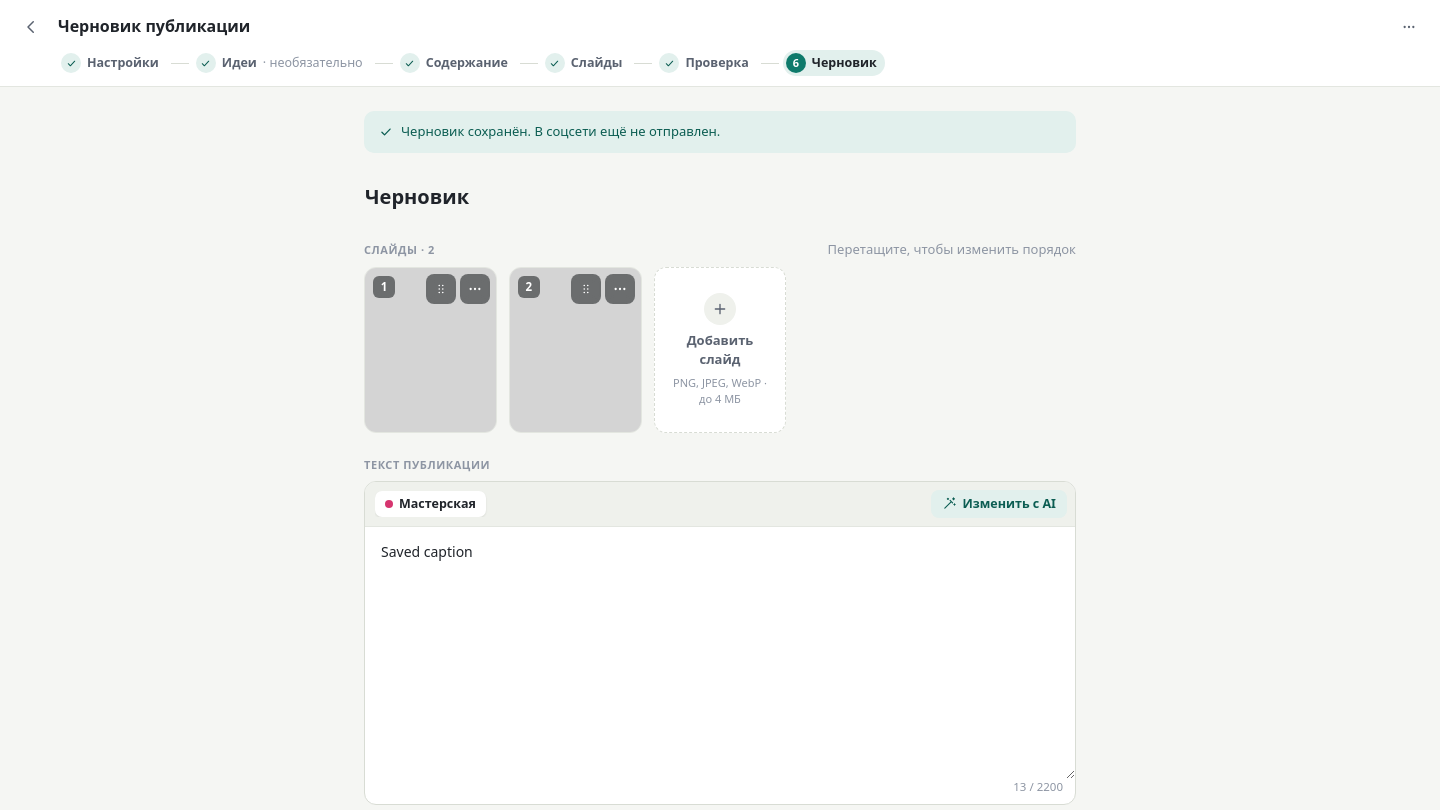
Test: closes the slide menu with Escape and deletes the draft only after confirmation
Click the button named "Действия: слайд 1" at (475, 289), box [460, 274, 490, 304]
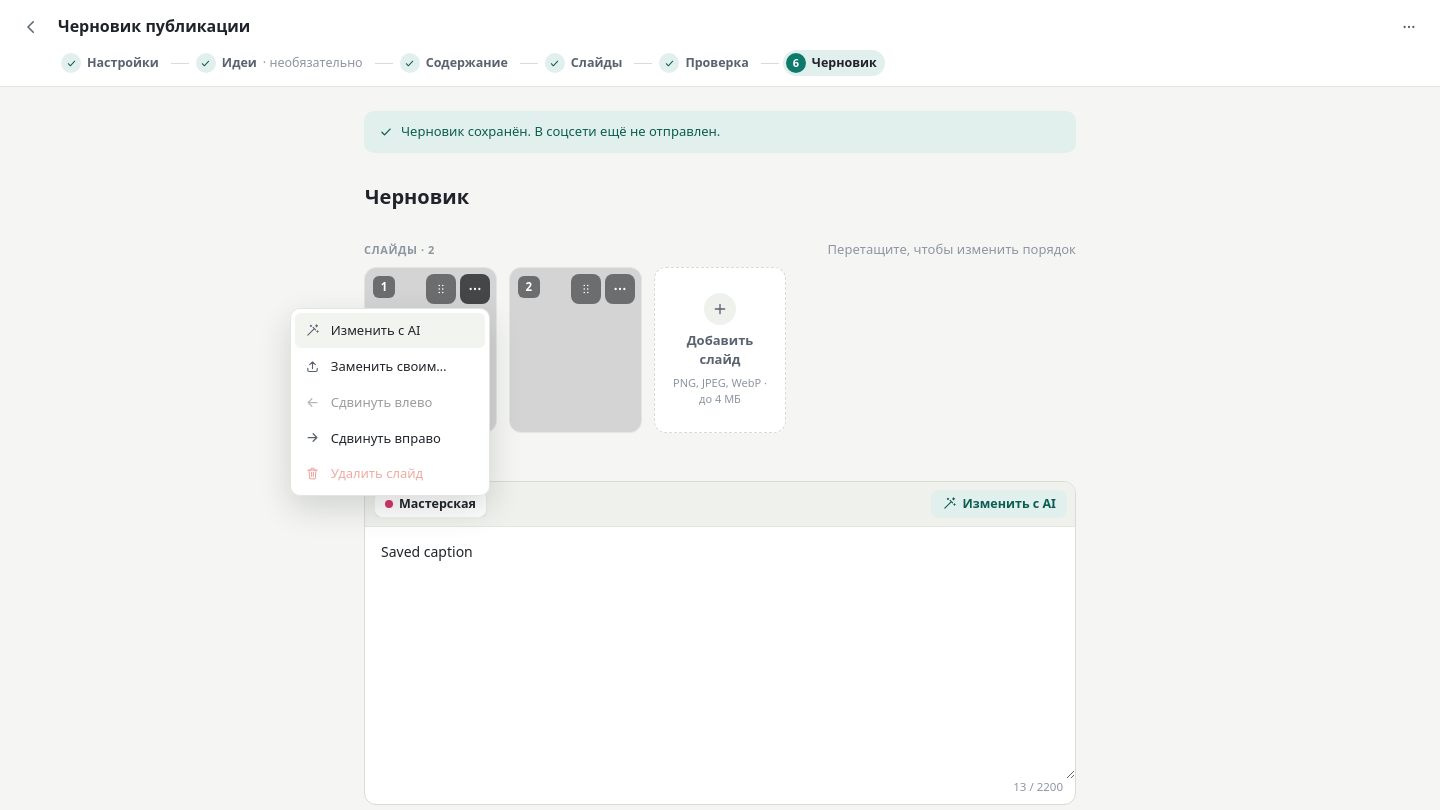
expect the menu is shown: met, box [290, 308, 490, 496]
Press Escape
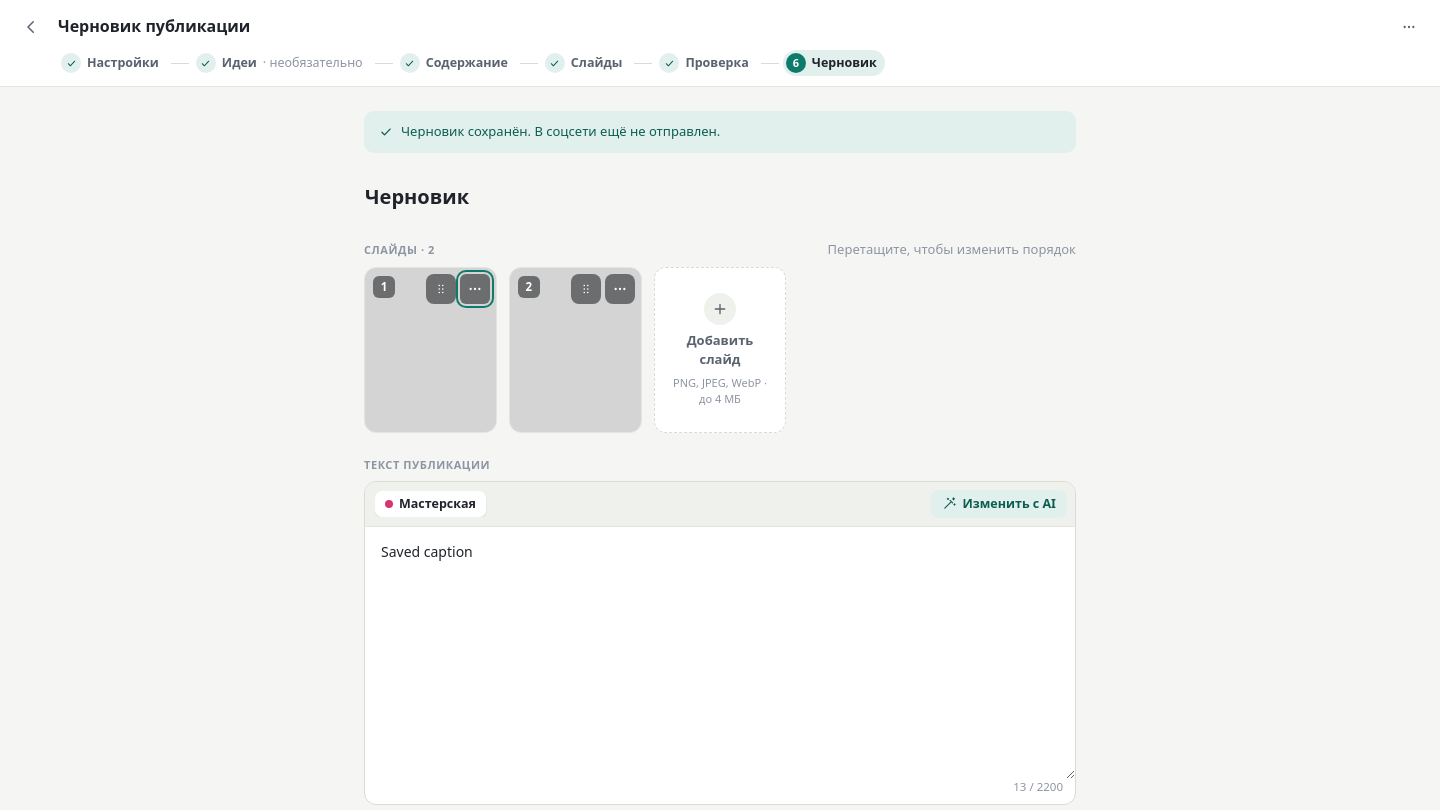
expect the menu is gone: met
Click the button named "Действия с черновиком" at (1409, 27), box [1394, 12, 1424, 42]
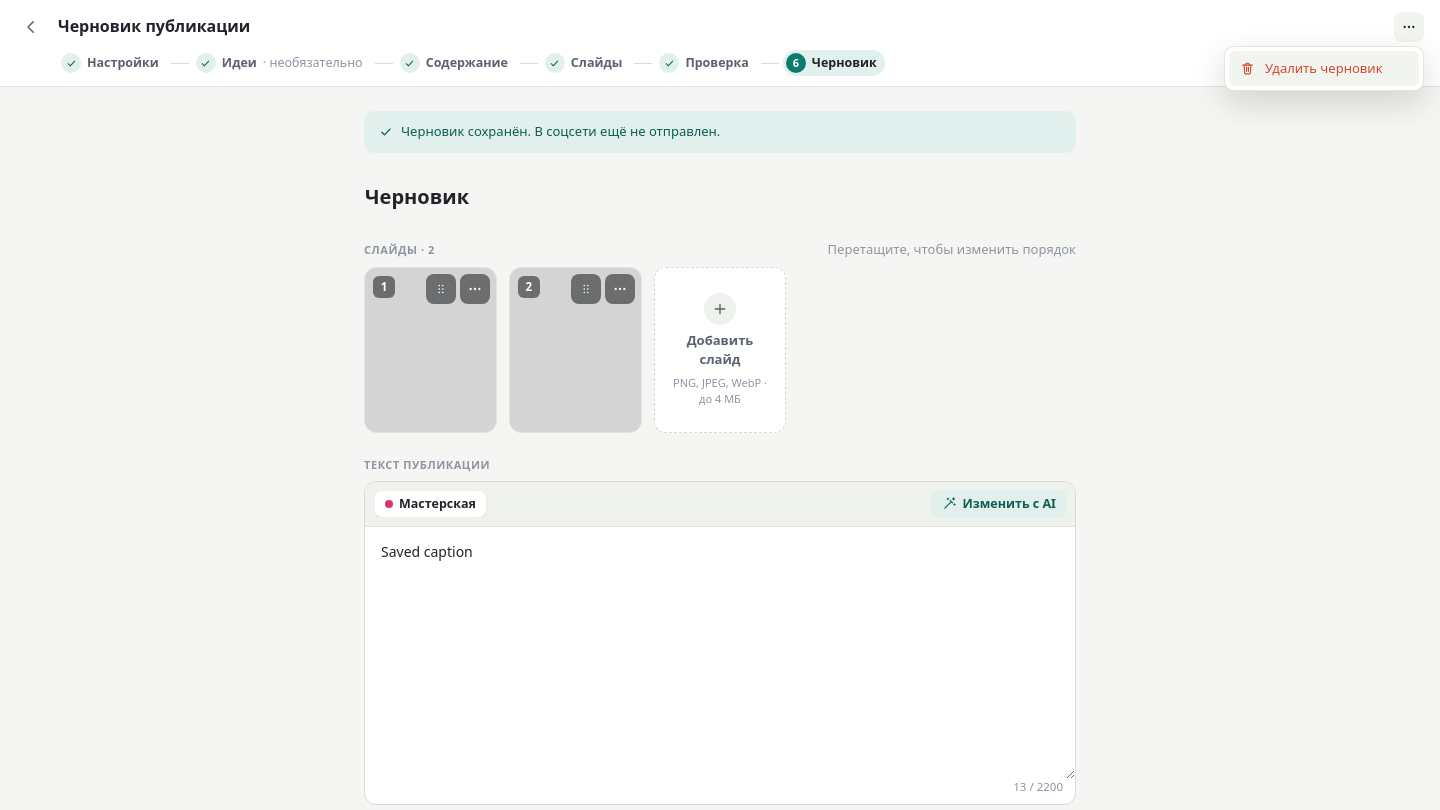
Click the menu item "Удалить черновик" at (1324, 68), box [1229, 51, 1419, 86]
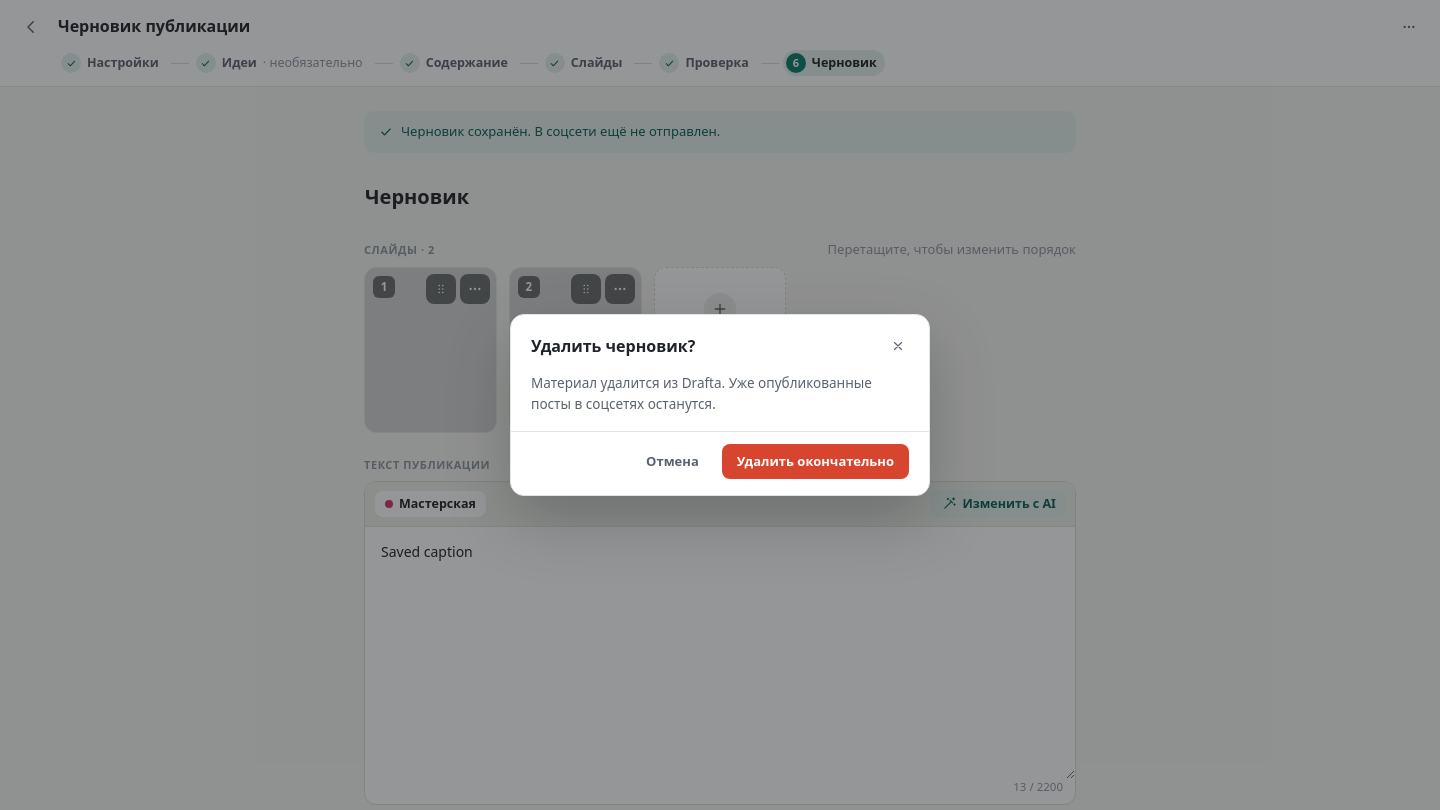
expect the dialog "Удалить черновик?" is shown: met, box [510, 314, 930, 496]
